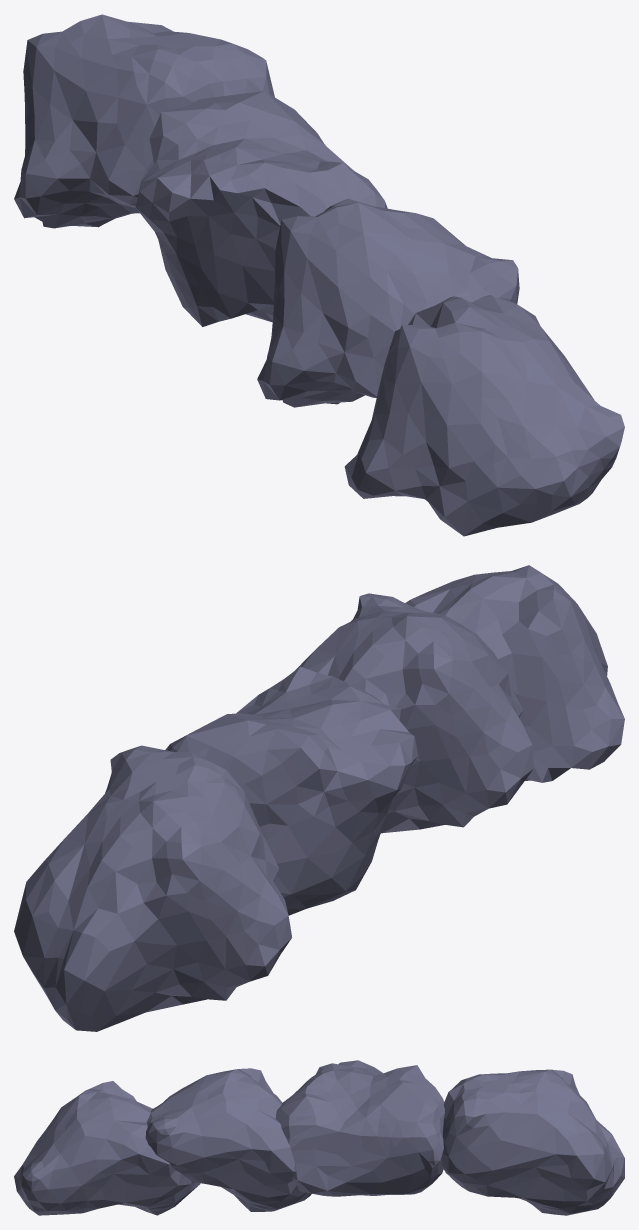
The model's file is yeni kopya1.fbx.
3 views of the same model, one above another, from view 1: azimuth 30°, elevation 25°; view 2: azimuth 150°, elevation 25°; view 3: azimuth 270°, elevation 25° (orthographic). The views are drawn at different scales.
Visible parts, largest first — view 1: Circle.003; view 2: Circle.003; view 3: Circle.003.
Part boxes in pixels (<box>): Circle.003: <box>14,14,624,536</box>; Circle.003: <box>14,565,624,1031</box>; Circle.003: <box>14,1060,624,1215</box>.
Bounding box in the file's own units: 98.22 × 96.37 × 401.
